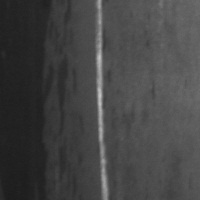inclusion: (1, 1, 74, 198)
scratches: (91, 1, 112, 200)
